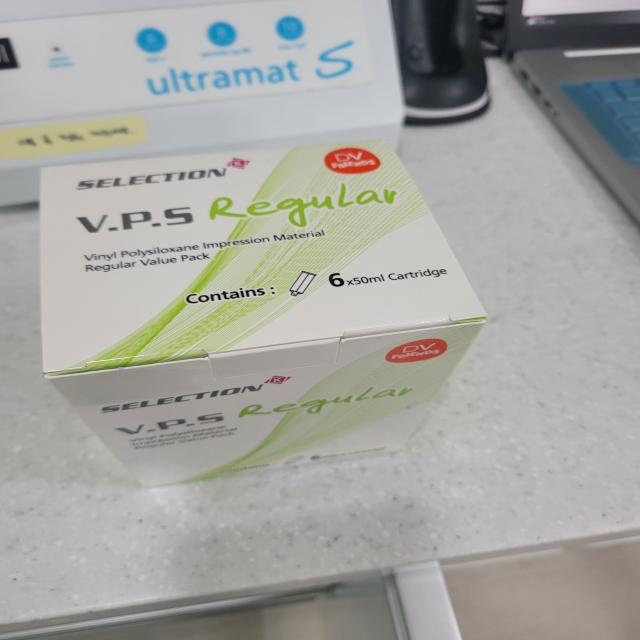impression: (3, 130, 487, 496)
